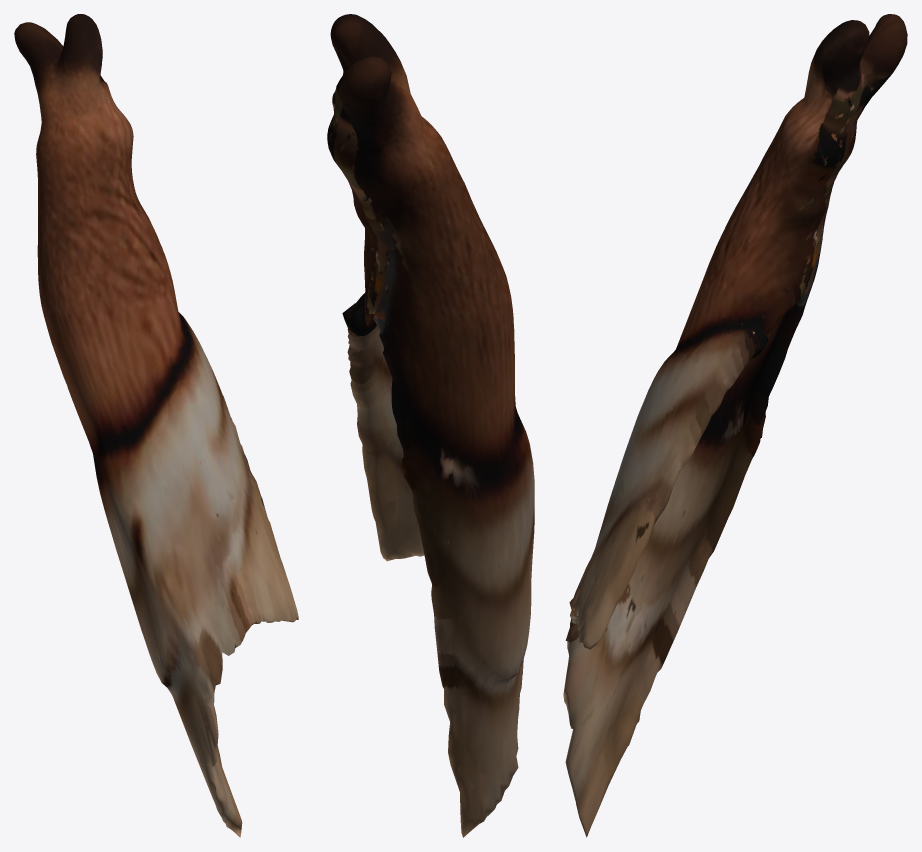
The model's file is boar-grip-v3.glb.
3 renders of one model, left to right at view 1: azimuth 30°, elevation 25°; view 2: azimuth 150°, elevation 25°; view 3: azimuth 270°, elevation 25°, orthographic. The views are drawn at different scales.
Visible parts, largest first — view 1: boar-card-grip; view 2: boar-card-grip; view 3: boar-card-grip.
Boxes of the visible parts, x1,y1,x2,y2 form: boar-card-grip: (14,14,298,837); boar-card-grip: (327,14,534,837); boar-card-grip: (563,14,907,837).
Size of the model in its own units: 2.05 by 8.45 by 3.3.
1 material, 1 textured.
